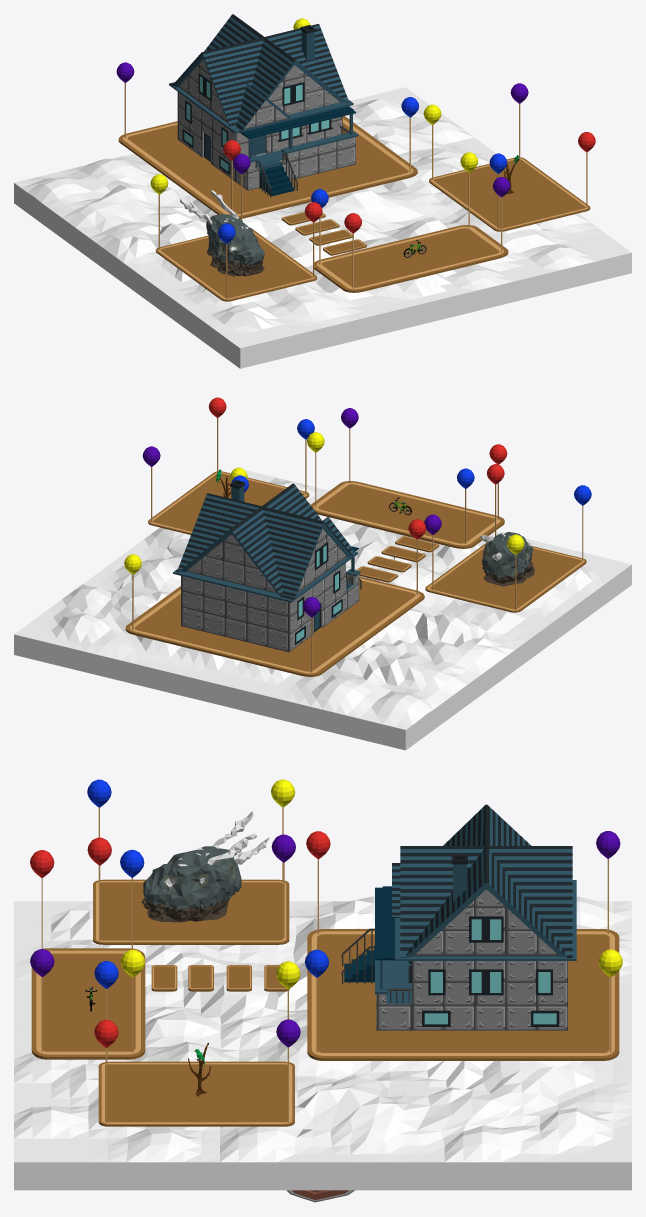
The picture shows the model from 3 angles, top to bottom: view 1: azimuth 30°, elevation 25°; view 2: azimuth 150°, elevation 25°; view 3: azimuth 270°, elevation 25°; orthographic projection. The views are drawn at different scales.
Parts seen in each view (by area): view 1: Cube.013, Cube.078, OBJRANDOM_METEORITE; view 2: Cube.013, Cube.078, OBJRANDOM_METEORITE; view 3: Cube.013, Cube.078, OBJRANDOM_METEORITE.
Part boxes in pixels (<box>): Cube.013: <box>14,18,631,368</box>; Cube.078: <box>169,14,358,197</box>; OBJRANDOM_METEORITE: <box>180,190,264,276</box>; Cube.013: <box>14,397,631,750</box>; Cube.078: <box>173,480,361,652</box>; OBJRANDOM_METEORITE: <box>479,531,534,586</box>; Cube.013: <box>14,779,631,1190</box>; Cube.078: <box>341,804,576,1030</box>; OBJRANDOM_METEORITE: <box>141,811,269,922</box>.
Size of the model in its own units: 4000 by 2404 by 4000.
38 materials, 3 textured.
